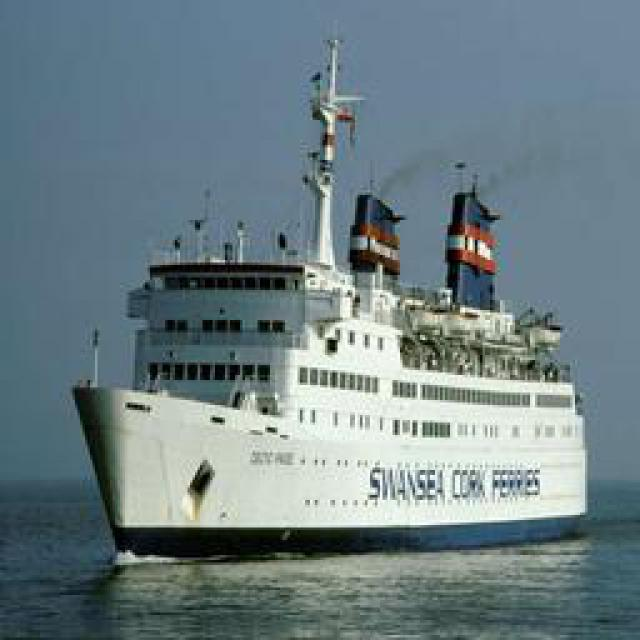Ship: (79, 19, 599, 569)
